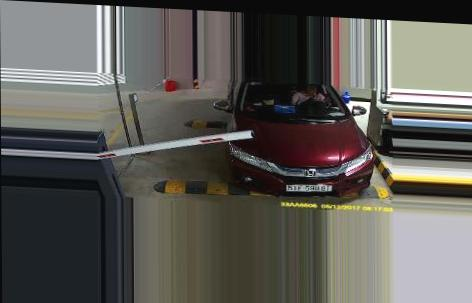License_Plate: (284, 181, 334, 194)
